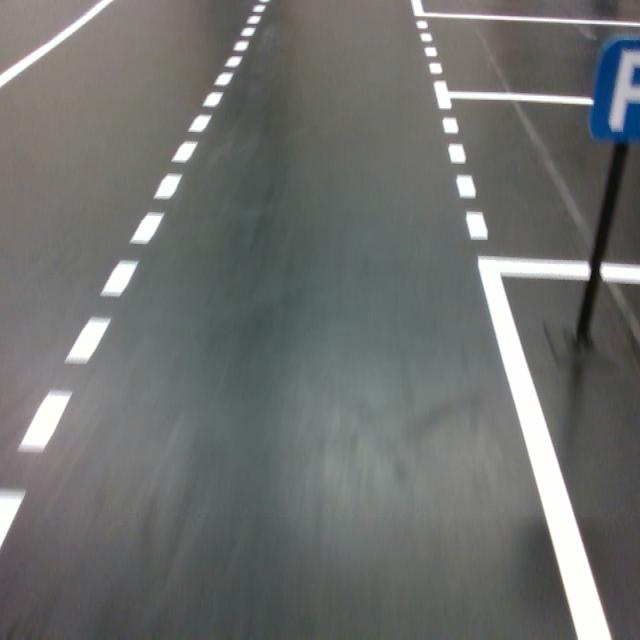parking-sign: (586, 32, 640, 143)
